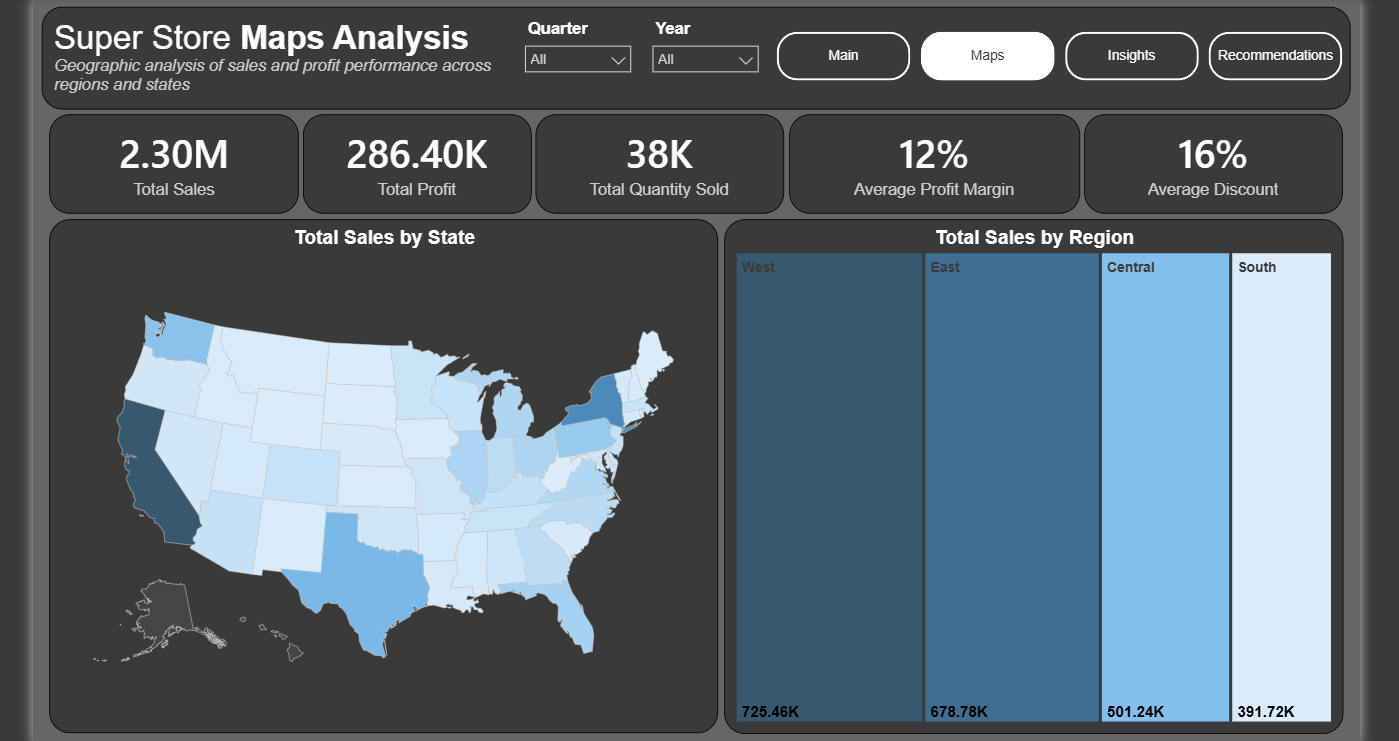

The dashboard page shown, as its layout file describes it:
{"tool":"powerbi","page":{"name":"Maps","canvas":[1280,720],"ordinal":1},"visuals":[{"type":"group","id":"g1","title":"Group 1","box":[8.4,8.4,1263.1,98.9],"z":0},{"type":"cardVisual","fields":{"Data":["Sum(Working Area.Sales)"]},"box":[16,112,241.1,96],"z":0,"group":"g3"},{"type":"textbox","box":[8.4,8.4,1263.1,98.9],"z":1000,"group":"g1"},{"type":"group","id":"g2","title":"Group 2","box":[15.7,213.5,1248.7,497.1],"z":1000},{"type":"group","id":"g3","title":"Group 1","box":[16,112,1248,96],"z":2000},{"type":"cardVisual","fields":{"Data":["Sum(Working Area.Profit)"]},"box":[261.2,112,220.6,96],"z":2000,"group":"g3"},{"type":"group","id":"g4","title":"Group 3","box":[15.7,213.5,1248.7,497.1],"z":2001,"group":"g2"},{"type":"cardVisual","fields":{"Data":["Sum(Working Area.Quantity)"]},"box":[485.9,112,239.7,96],"z":3000,"group":"g3"},{"type":"cardVisual","fields":{"Data":["Avg(Working Area.Profit Margin)"]},"box":[729.7,112,280.8,96],"z":4000,"group":"g3"},{"type":"cardVisual","fields":{"Data":["Avg(Working Area.Discount)"]},"box":[1014.7,112,249.3,96],"z":5000,"group":"g3"},{"type":"slicer","fields":{"Values":["Working Area.Order Date.Variation.Date Hierarchy.Year"]},"box":[587.4,15.7,123.1,80.8],"z":6000,"group":"g5"},{"type":"slicer","fields":{"Values":["Working Area.Order Date.Variation.Date Hierarchy.Quarter"]},"box":[464.3,15.7,123.1,80.8],"z":8000,"group":"g5"},{"type":"shapeMap","fields":{"Category":["Working Area.State"],"Value":["Sum(Working Area.Sales)"]},"box":[15.7,213.5,645.6,495.8],"z":8000,"group":"g4"},{"type":"group","id":"g5","title":"Group 4","box":[464.3,15.7,246.1,80.8],"z":8001},{"type":"pageNavigator","box":[717.8,32.6,546.5,47.1],"z":8002},{"type":"treemap","fields":{"Group":["Working Area.Region"],"Values":["Sum(Working Area.Sales)"]},"box":[666.8,213.5,597.6,497.1],"z":9001,"group":"g4"}]}

Visuals, with their boxes on the page's 1280x720 design canvas (x1, y1, x2, y2). These are canvas units, not pixel positions in the 1399x741 screenshot, which may show the page scaled, cropped or inside an application window:
"Group 1" group: rect(8, 8, 1272, 107)
cardVisual - Sum(Working Area.Sales): rect(16, 112, 257, 208)
textbox: rect(8, 8, 1272, 107)
"Group 2" group: rect(16, 214, 1264, 711)
"Group 1" group: rect(16, 112, 1264, 208)
cardVisual - Sum(Working Area.Profit): rect(261, 112, 482, 208)
"Group 3" group: rect(16, 214, 1264, 711)
cardVisual - Sum(Working Area.Quantity): rect(486, 112, 726, 208)
cardVisual - Avg(Working Area.Profit Margin): rect(730, 112, 1010, 208)
cardVisual - Avg(Working Area.Discount): rect(1015, 112, 1264, 208)
slicer - Working Area.Order Date.Variation.Date Hierarchy.Year: rect(587, 16, 710, 96)
slicer - Working Area.Order Date.Variation.Date Hierarchy.Quarter: rect(464, 16, 587, 96)
shapeMap - Working Area.State x Sum(Working Area.Sales): rect(16, 214, 661, 709)
"Group 4" group: rect(464, 16, 710, 96)
pageNavigator: rect(718, 33, 1264, 80)
treemap - Working Area.Region x Sum(Working Area.Sales): rect(667, 214, 1264, 711)
